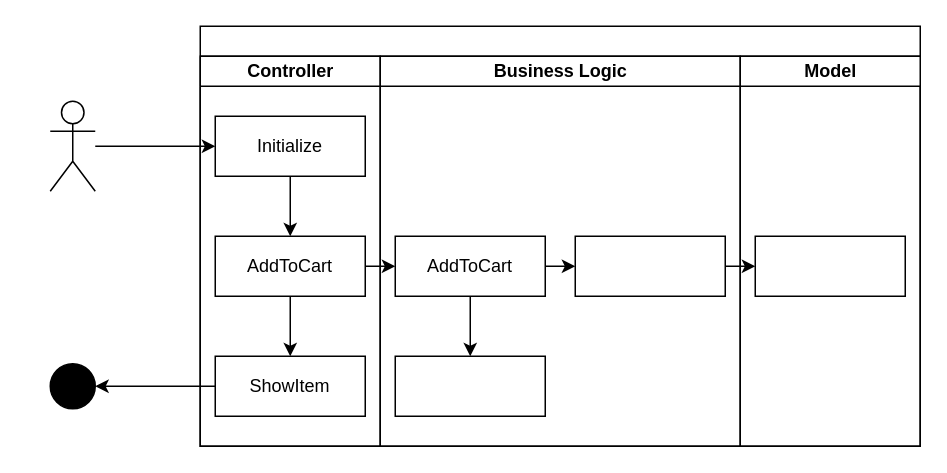
The diagram is 947 pixels wide and 473 high, and some of its shapes have lost their labels. Here are the shapes that lost their labels. From the top down, the centre of each, then its label:
At point 72,145: "Visitor/User".
At point 649,265: "SetItemStatus".
At point 829,265: "UpdateItem".
At point 469,385: "UpdateCart".
